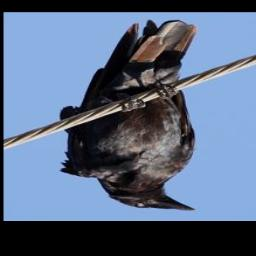Crow: (58, 20, 200, 214)
